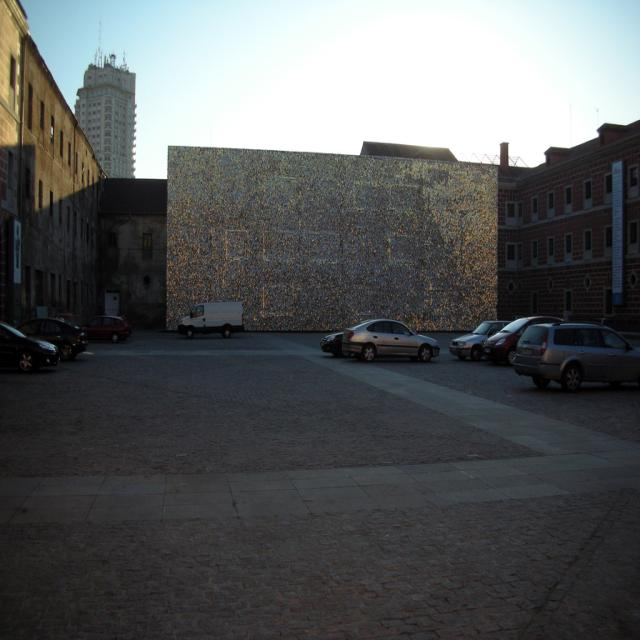car: (511, 312, 639, 396), (339, 313, 444, 369), (471, 314, 548, 366), (0, 317, 55, 373), (449, 317, 511, 366), (33, 317, 87, 363), (86, 312, 128, 342), (322, 330, 343, 362), (0, 318, 10, 374)
